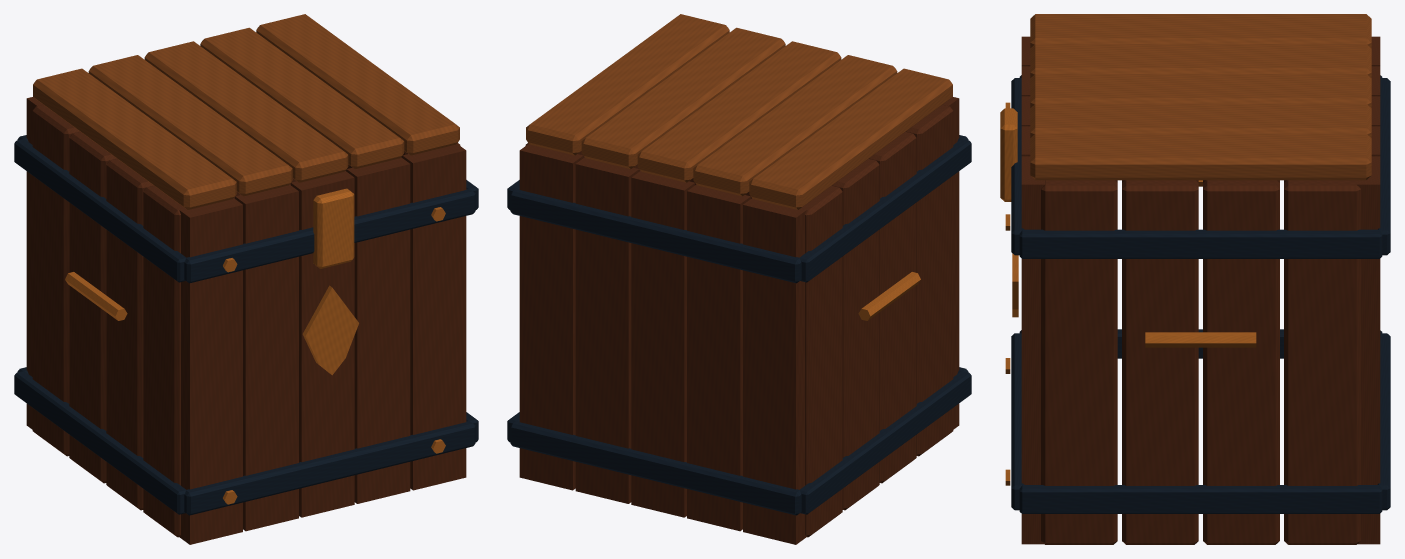
File: SupplyCrate.fbx
The picture shows the model from 3 angles, left to right: view 1: azimuth 30°, elevation 25°; view 2: azimuth 150°, elevation 25°; view 3: azimuth 270°, elevation 25°; orthographic projection. The views are drawn at different scales.
Visible parts, largest first — view 1: SupplyCrate; view 2: SupplyCrate; view 3: SupplyCrate.
Part boxes in pixels (bbox=[...]): SupplyCrate: bbox=[14, 14, 478, 544]; SupplyCrate: bbox=[507, 14, 971, 544]; SupplyCrate: bbox=[1000, 14, 1390, 544].
Size of the model in its own units: 93 by 99.4 by 91.45.
Materials: 1 (1 with a texture image).
